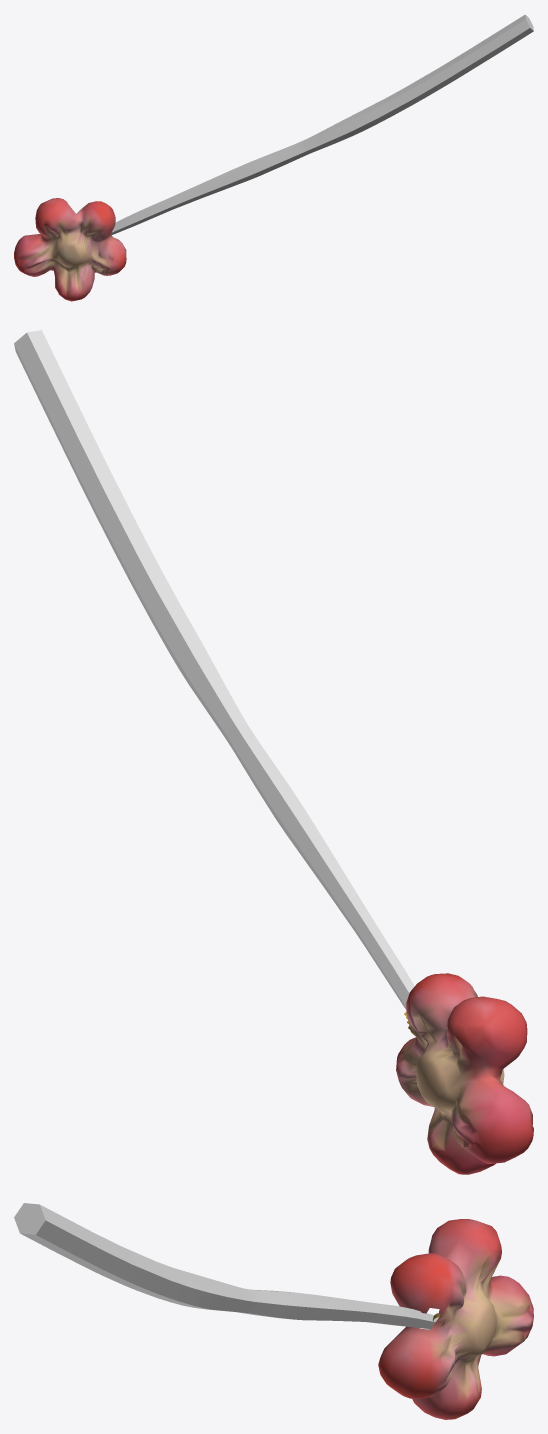
3 renders of one model, top to bottom at view 1: azimuth 30°, elevation 25°; view 2: azimuth 150°, elevation 25°; view 3: azimuth 270°, elevation 25°, orthographic. The views are drawn at different scales.
Parts seen in each view (by area): view 1: LOD 3_db1f3563-74ec-5521-8a02-f5e0673ae12e; view 2: LOD 3_db1f3563-74ec-5521-8a02-f5e0673ae12e; view 3: LOD 3_db1f3563-74ec-5521-8a02-f5e0673ae12e.
Boxes of the visible parts, x1,y1,x2,y2 form: LOD 3_db1f3563-74ec-5521-8a02-f5e0673ae12e: [14, 14, 533, 301]; LOD 3_db1f3563-74ec-5521-8a02-f5e0673ae12e: [14, 330, 533, 1174]; LOD 3_db1f3563-74ec-5521-8a02-f5e0673ae12e: [14, 1203, 533, 1419].
Size of the model in its own units: 1.5 by 1.01 by 0.9113.
